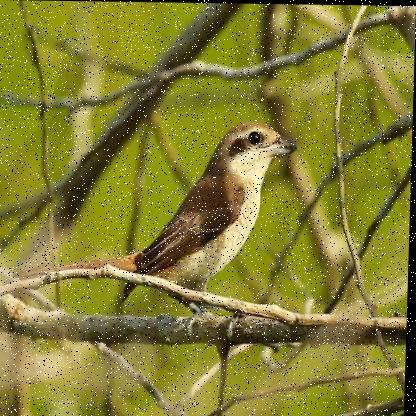Burung: (12, 115, 301, 308)
